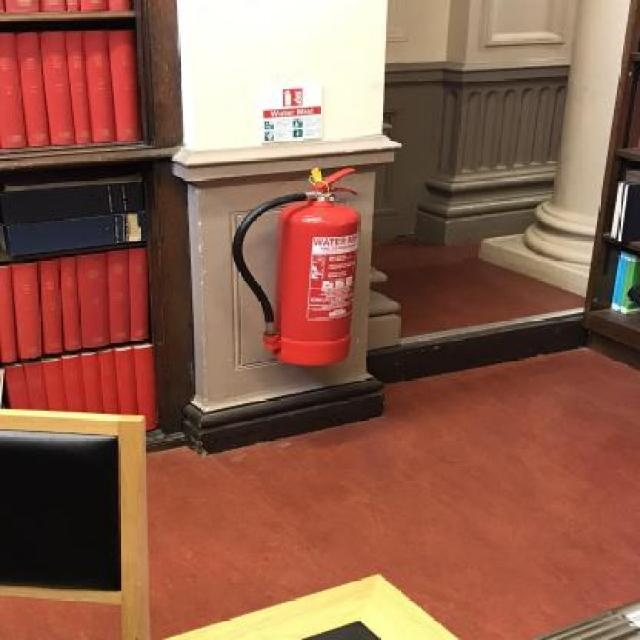fire extinguisher: (229, 167, 359, 367)
